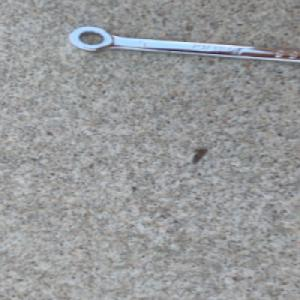Wrench: (65, 23, 300, 66)
